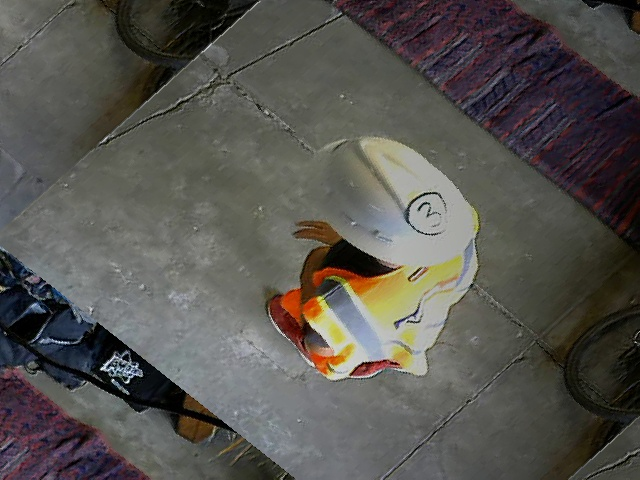three: (398, 186, 463, 241)
